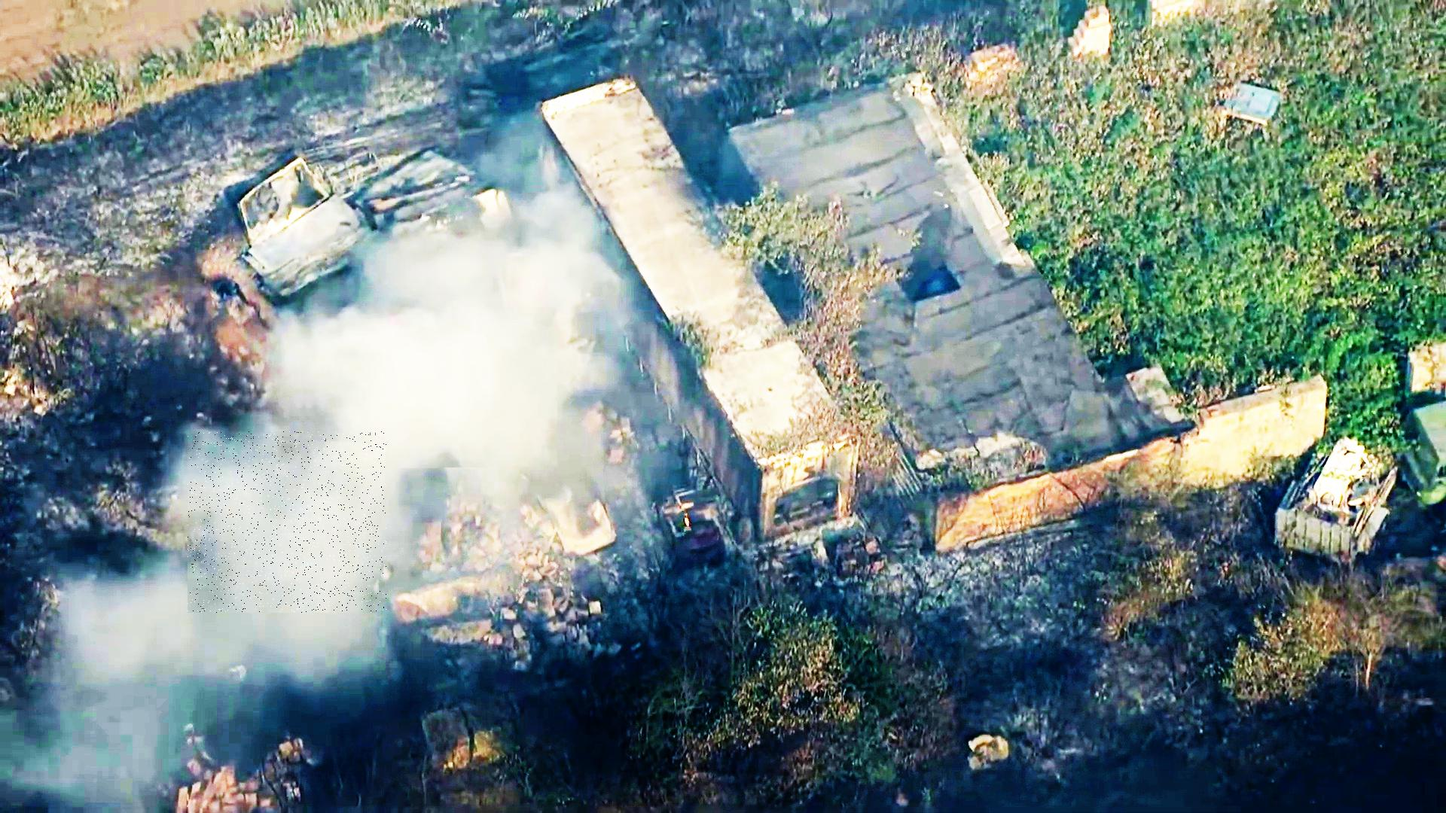smoke: (295, 307, 558, 470), (188, 431, 386, 613)
